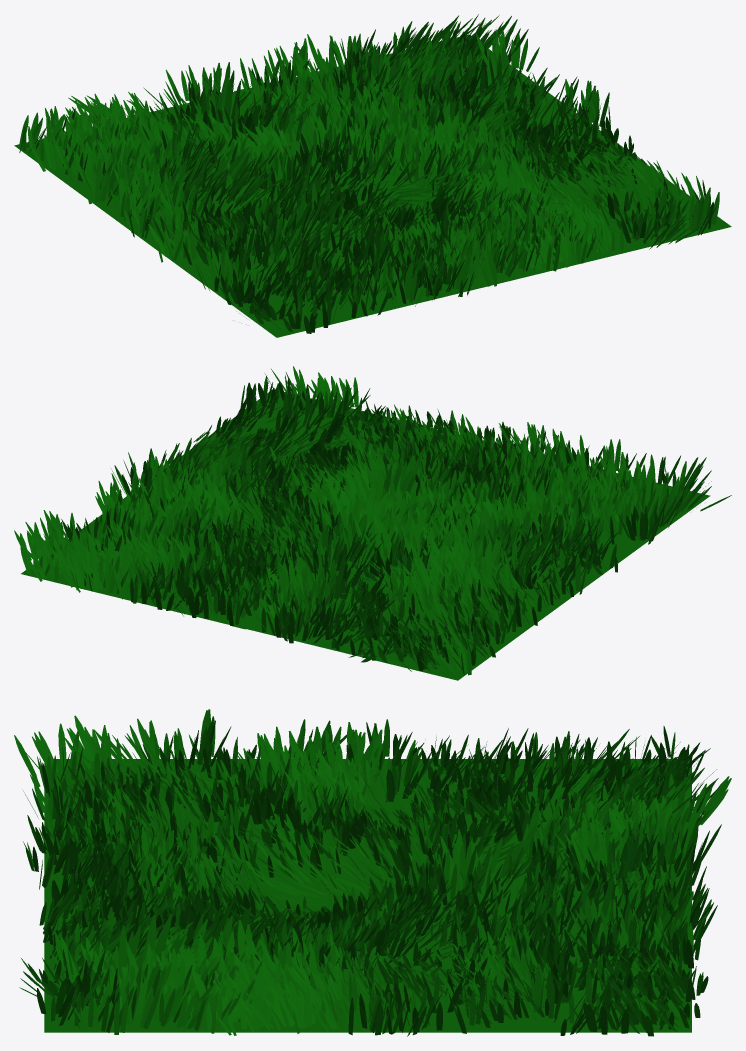
Rendered from grama com movimento.fbx.
3 renders of one model, top to bottom at view 1: azimuth 30°, elevation 25°; view 2: azimuth 150°, elevation 25°; view 3: azimuth 270°, elevation 25°, orthographic. The views are drawn at different scales.
Visible parts, largest first — view 1: Plane; view 2: Plane; view 3: Plane.
Boxes of the visible parts, box(x1,y1,x2,y2) form: Plane: box(14, 34, 731, 337); Plane: box(21, 390, 710, 680); Plane: box(44, 759, 691, 1032).
Size of the model in its own units: 450 by 34.83 by 441.
